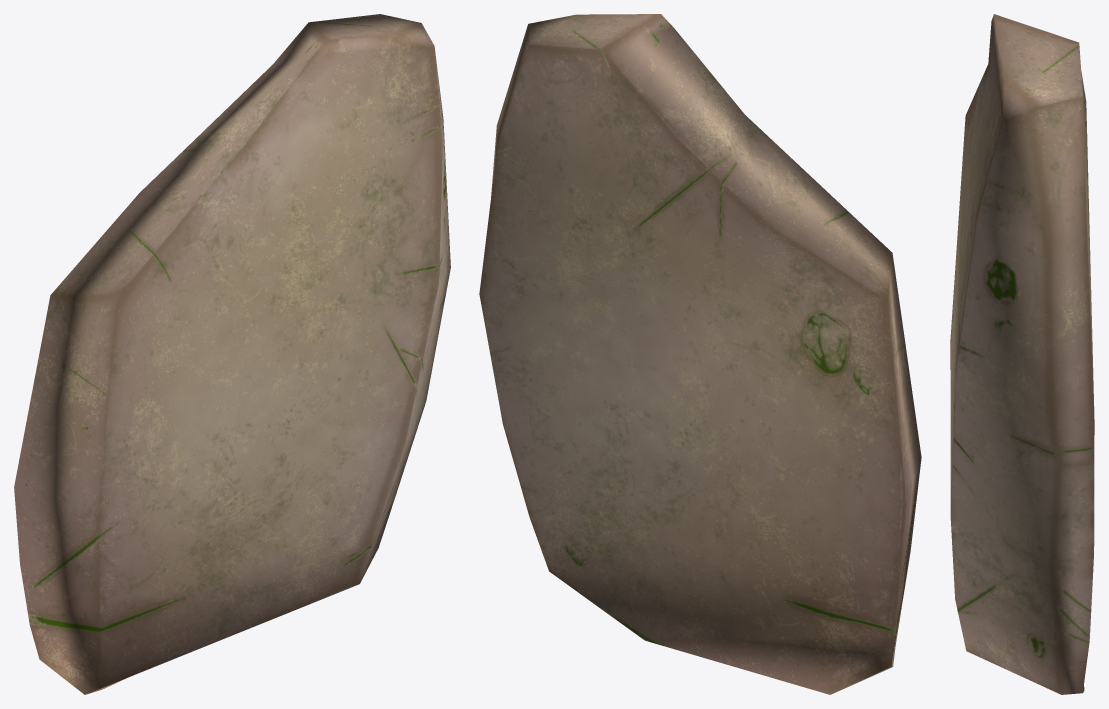
File: Rune01_low_02.fbx
The picture shows the model from 3 angles, left to right: view 1: azimuth 30°, elevation 25°; view 2: azimuth 150°, elevation 25°; view 3: azimuth 270°, elevation 25°; orthographic projection. The views are drawn at different scales.
Parts seen in each view (by area): view 1: Rune_01_low_02; view 2: Rune_01_low_02; view 3: Rune_01_low_02.
Part boxes in pixels (bbox=[...]): Rune_01_low_02: bbox=[14, 14, 450, 694]; Rune_01_low_02: bbox=[479, 14, 921, 694]; Rune_01_low_02: bbox=[950, 14, 1094, 694].
Size of the model in its own units: 1.44 by 1.98 by 0.3612.
1 material, 1 textured.
